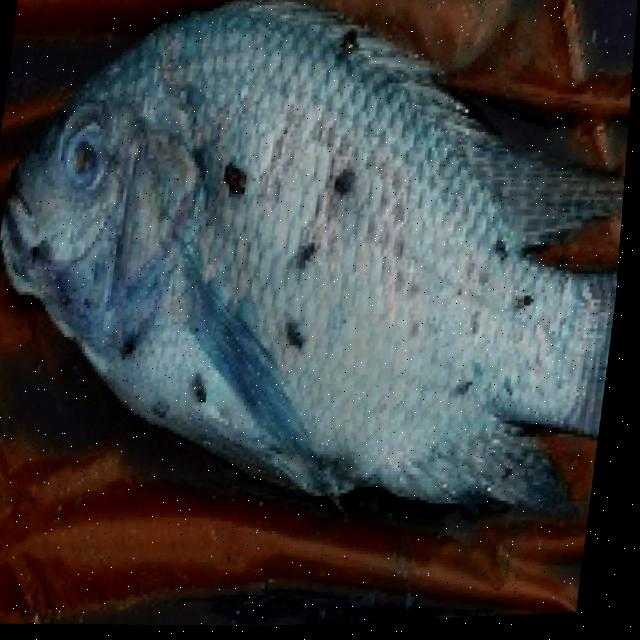Non-Fresh: (135, 127, 521, 425), (43, 101, 134, 203)
